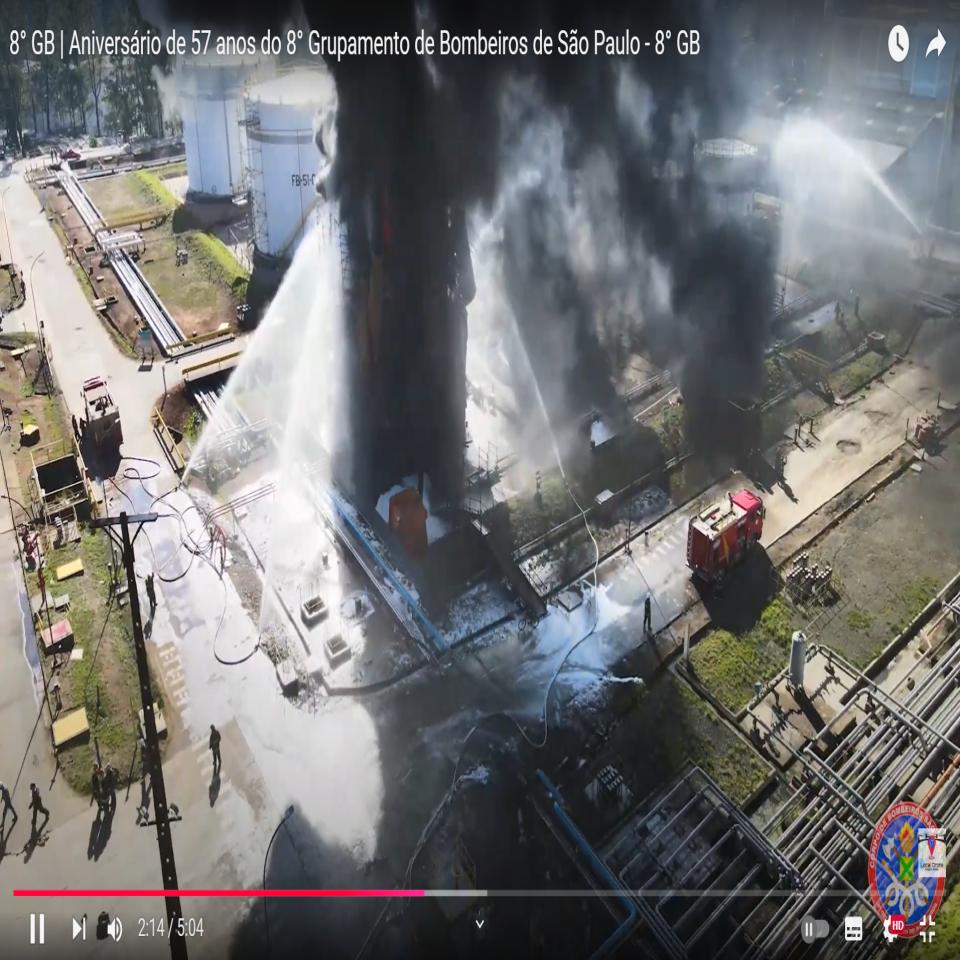bombeiro: (685, 488, 766, 586)
